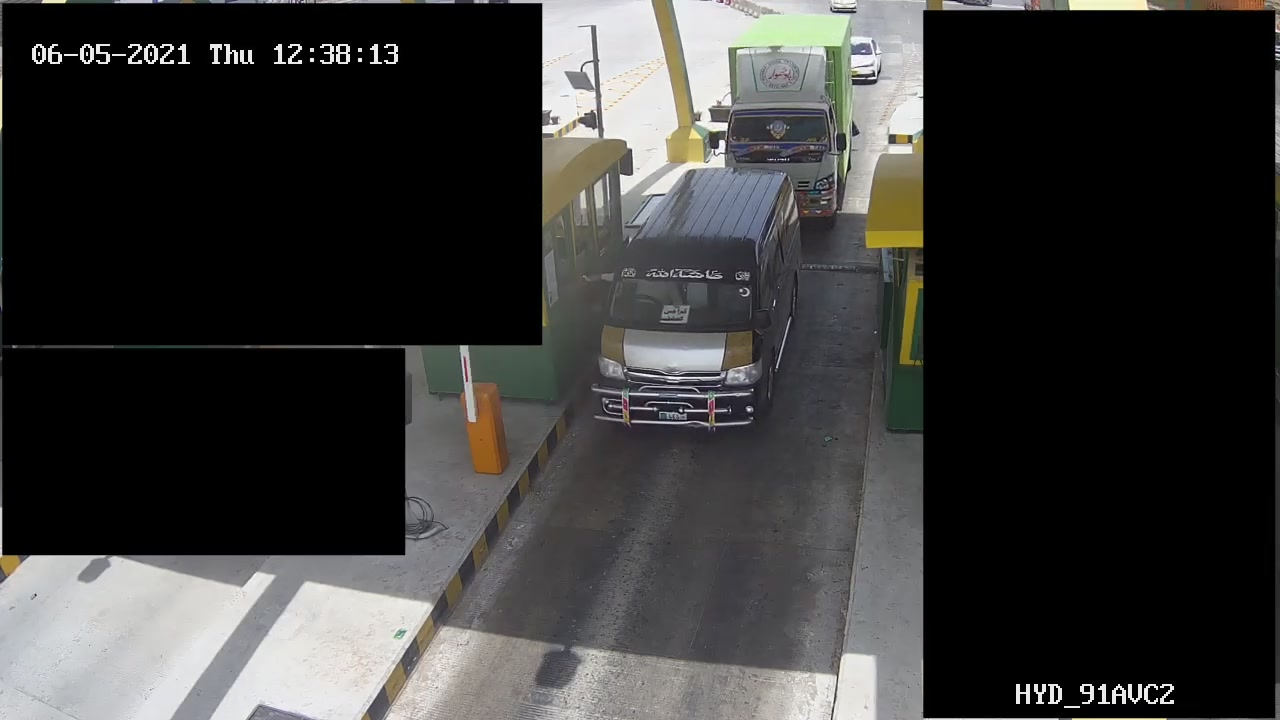F2: (598, 164, 800, 432)
